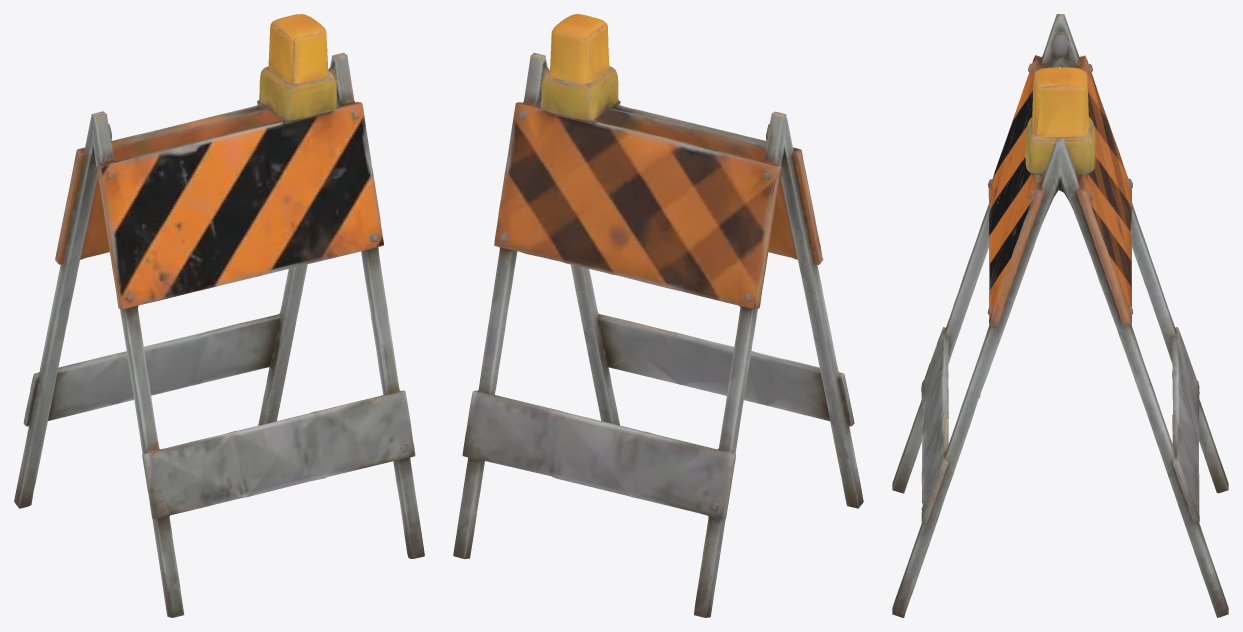
File: prop-sign.glb
3 renders of one model, left to right at view 1: azimuth 30°, elevation 25°; view 2: azimuth 150°, elevation 25°; view 3: azimuth 270°, elevation 25°, orthographic. The views are drawn at different scales.
Visible parts, largest first — view 1: Mesh_0; view 2: Mesh_0; view 3: Mesh_0.
Boxes of the visible parts, bbox=[...] form: Mesh_0: bbox=[14, 14, 424, 617]; Mesh_0: bbox=[453, 14, 863, 617]; Mesh_0: bbox=[892, 14, 1228, 617].
Bounding box in the file's own units: 1.07 × 1.91 × 1.12.
Materials: 1 (1 with a texture image).
